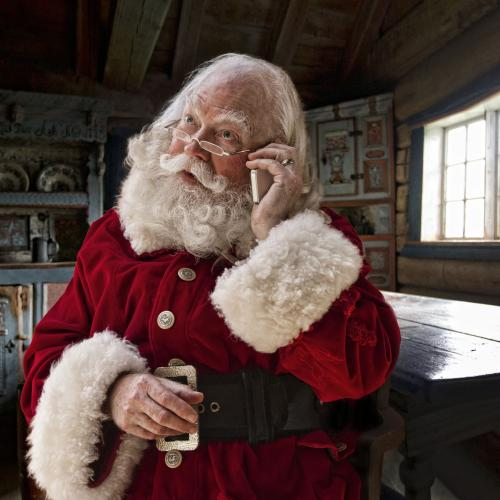Santa: (21, 50, 400, 500)
